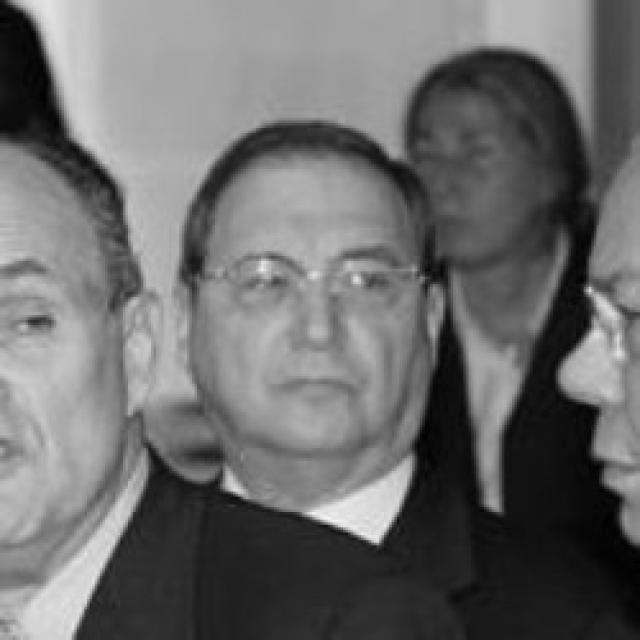real: (197, 154, 428, 449), (2, 137, 140, 557), (221, 242, 398, 304), (2, 290, 72, 360)
